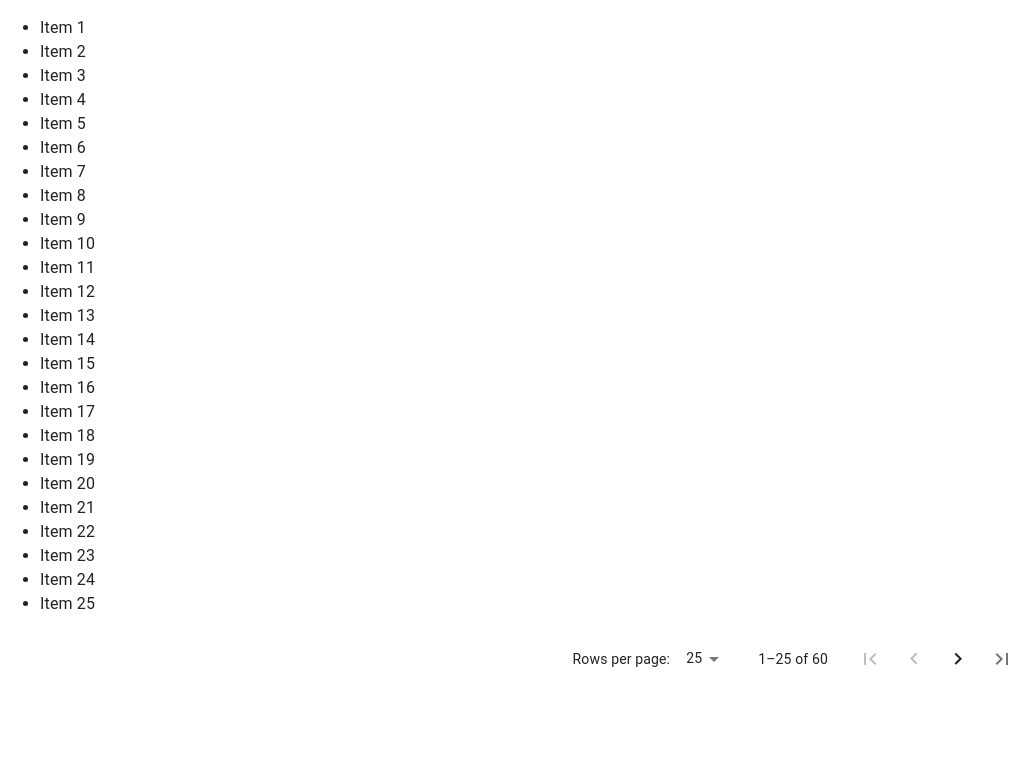
Paginated › pages through a long list with first, previous, next and last
Expected: the navigation bar named "Items pages" shows "1–25 of 60", top-left (758, 651), bottom-right (828, 667)
Expected: the button named "Go to previous page" is disabled, top-left (892, 637), bottom-right (936, 681)
What coordinates should you click on to do the following:
click the button named "Go to next page"
I would click on:
 (958, 659)
Its box is top-left (936, 637), bottom-right (980, 681).
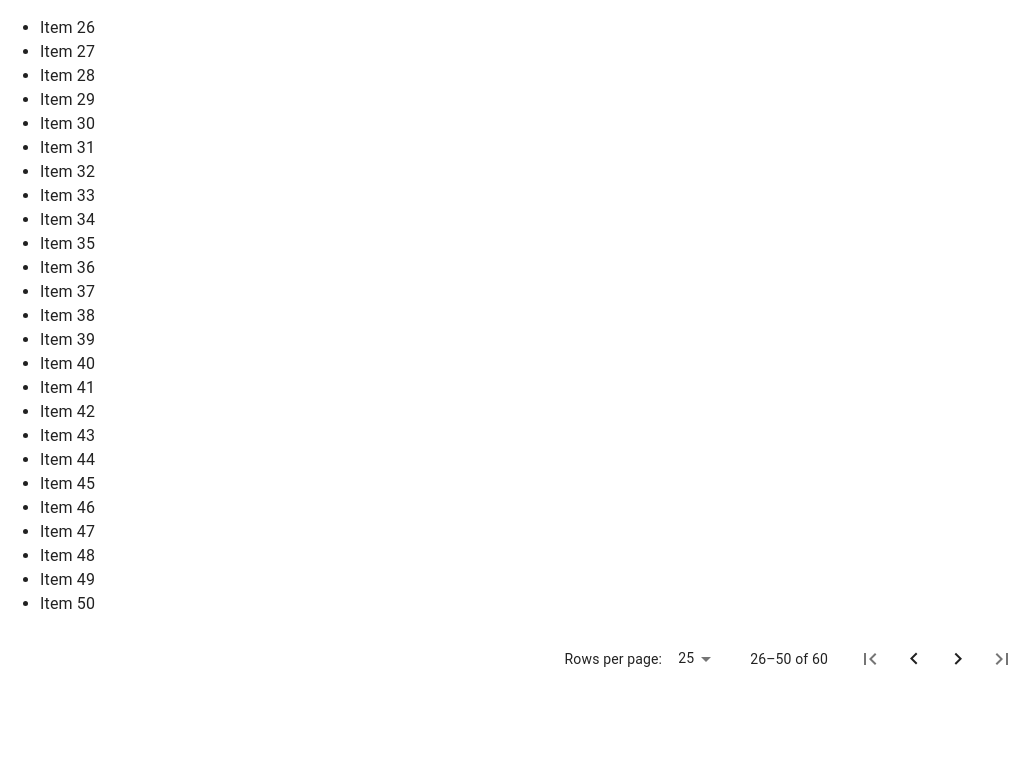
Now the list item "Item 26" is shown, box top-left (40, 18), bottom-right (95, 37)
Now the navigation bar named "Items pages" shows "26–50 of 60", box top-left (750, 651), bottom-right (828, 667)
What coordinates should you click on to do the following:
click the button named "Go to last page"
I would click on:
 (1002, 659)
Its box is top-left (980, 637), bottom-right (1024, 681).
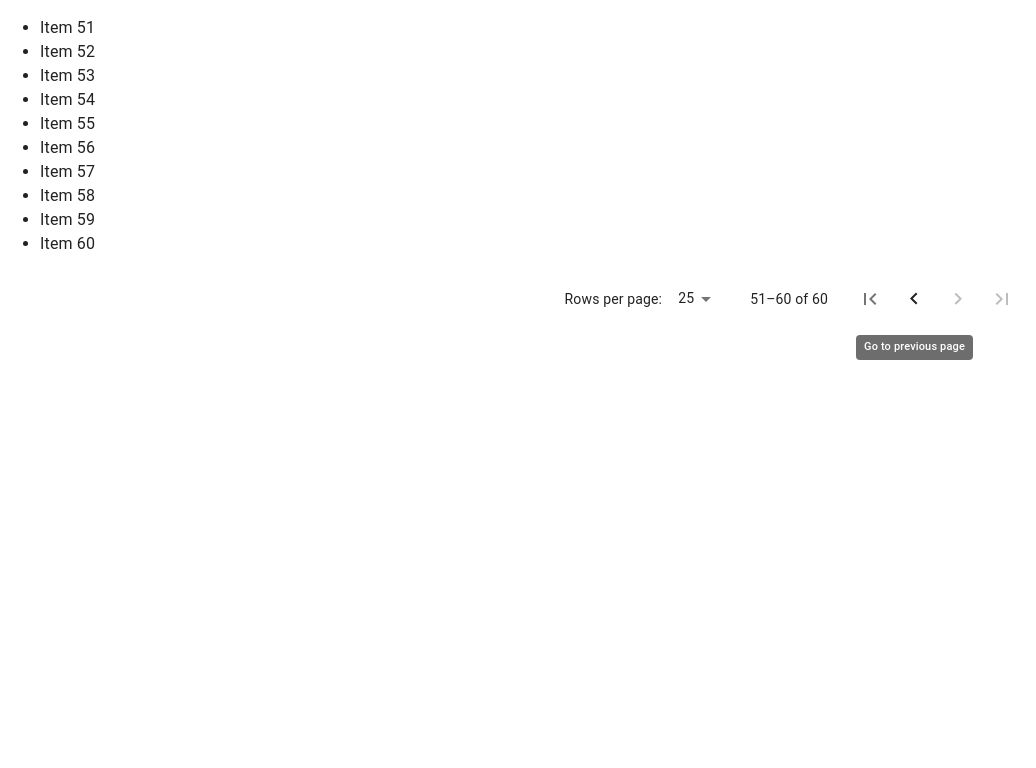
Now the button named "Go to next page" is disabled, box top-left (936, 277), bottom-right (980, 321)
What coordinates should you click on to do the following:
click the button named "Go to first page"
I would click on:
 (870, 299)
Its box is top-left (848, 277), bottom-right (892, 321).
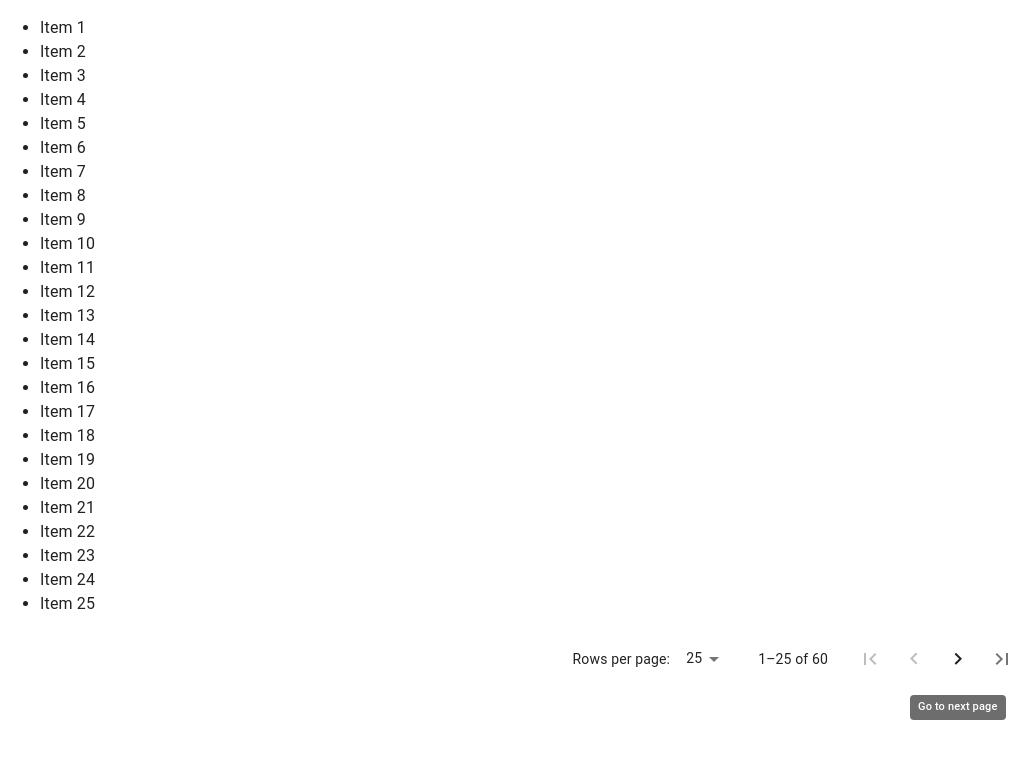
Now the list item "Item 1" is shown, box top-left (40, 18), bottom-right (86, 37)
